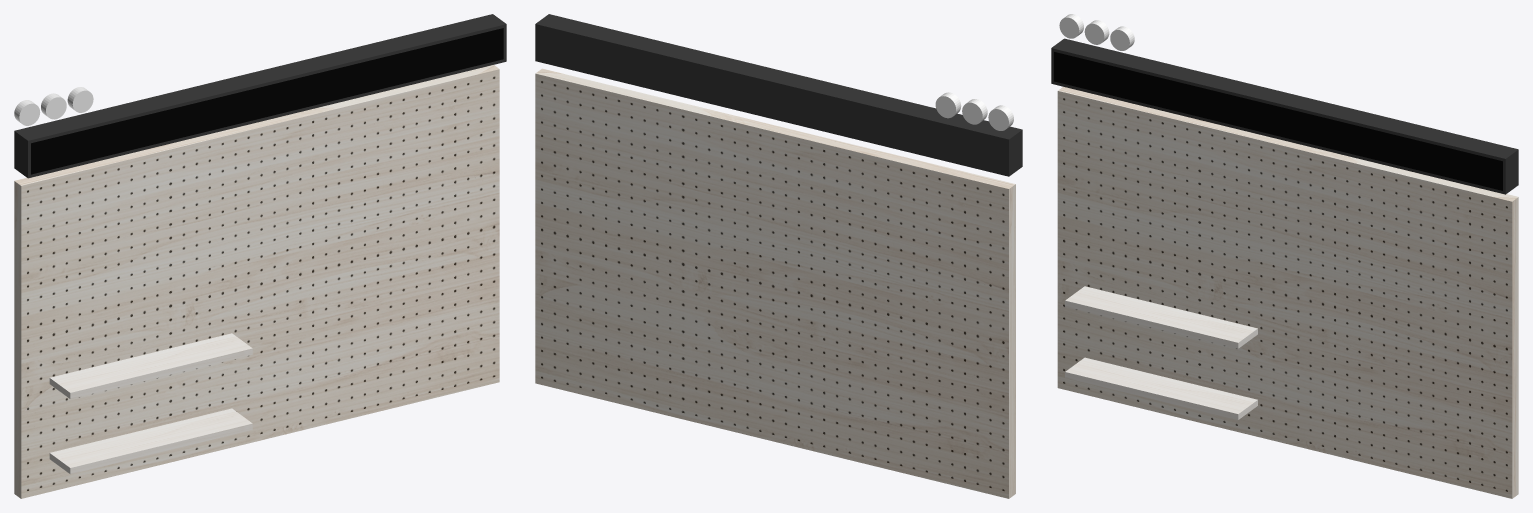
File: Board.fbx
3 views of the same model, side by side, from view 1: azimuth 30°, elevation 25°; view 2: azimuth 150°, elevation 25°; view 3: azimuth 330°, elevation 25° (orthographic). The views are drawn at different scales.
Parts seen in each view (by area): view 1: Board, Reader, Shelf - 02, Shelf - 01; view 2: Board, Reader; view 3: Board, Reader, Shelf - 02, Shelf - 01.
Boxes of the visible parts, box(x1,y1,x2,y2) form: Board: box(14, 65, 499, 498); Reader: box(14, 14, 506, 178); Shelf - 02: box(49, 408, 252, 474); Shelf - 01: box(49, 333, 252, 398); Board: box(535, 68, 1015, 498); Reader: box(535, 14, 1022, 176); Board: box(1057, 87, 1518, 498); Reader: box(1051, 38, 1518, 194); Shelf - 02: box(1065, 357, 1257, 419); Shelf - 01: box(1065, 286, 1257, 348).
Bounding box in the file's own units: 203 × 159 × 20.32.
Materials: 1 (1 with a texture image).
